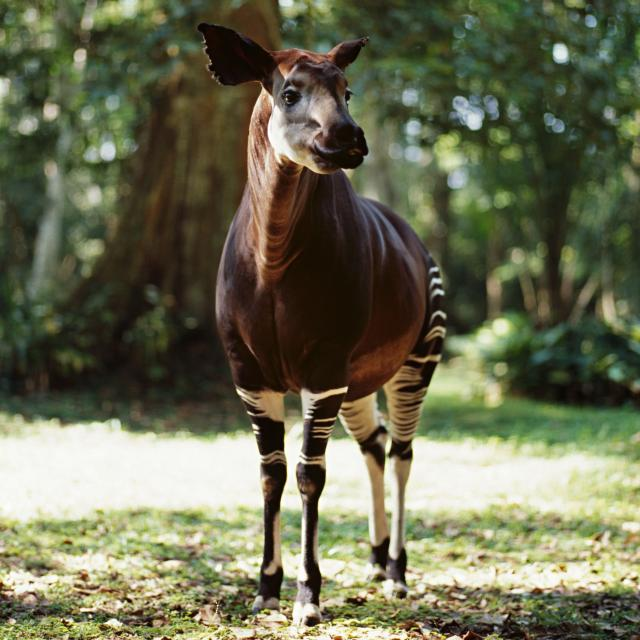Okapi: (168, 4, 458, 629)
